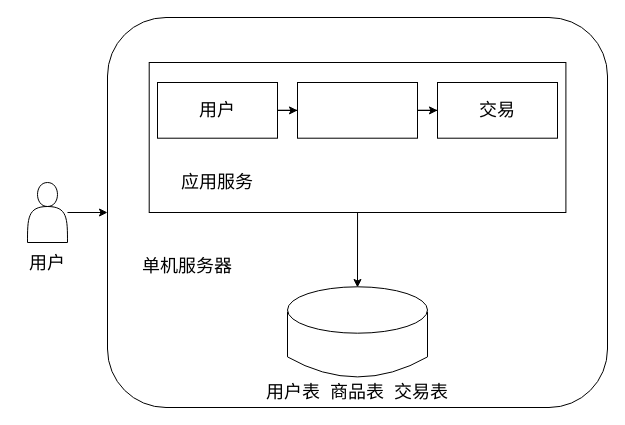
Image size: 625x425. Some labels were removed from this diagram. The centre of each missing label's shape, as x and y in pixels:
商品: the point at 357,110
数据库服务: the point at 357,344
